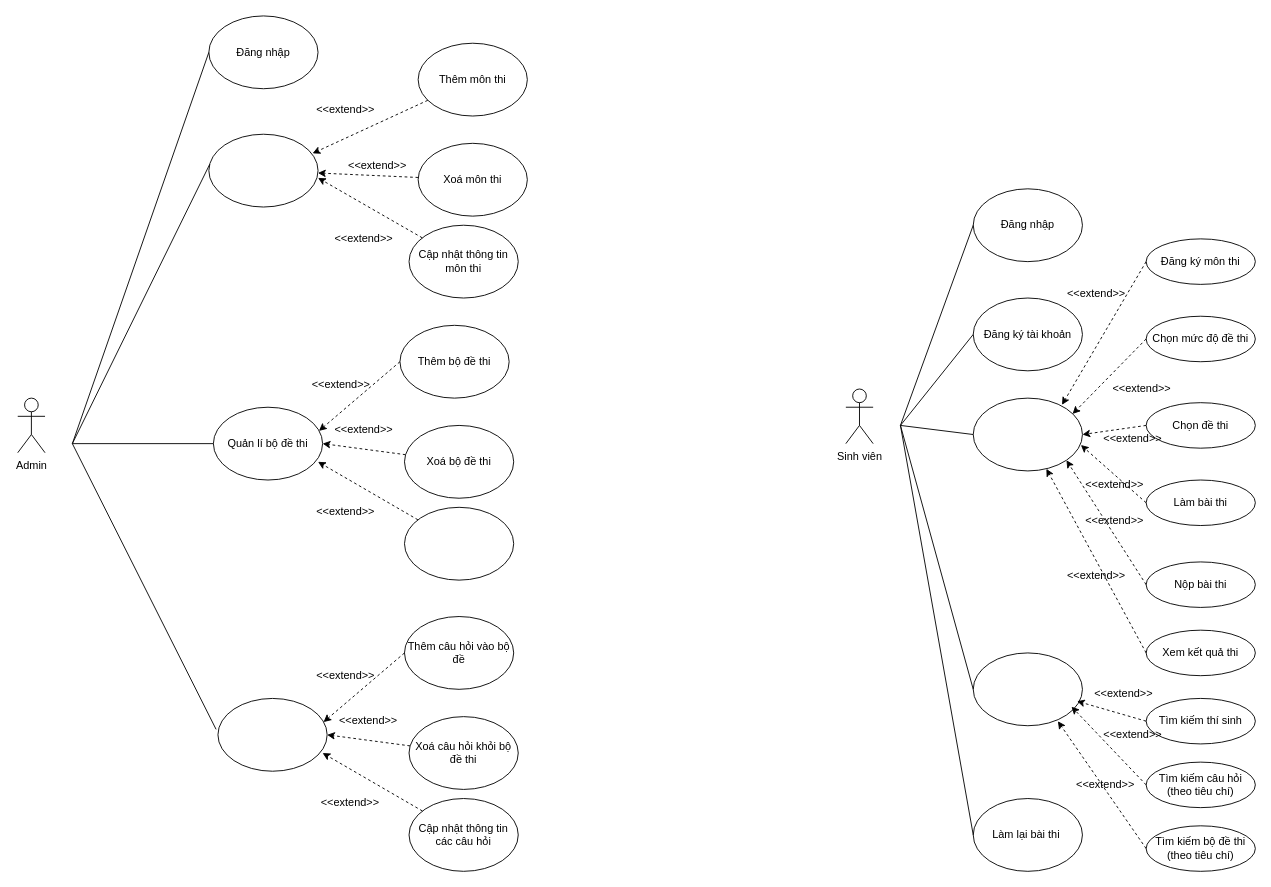
This 1271x887 diagram has some shape labels left out. Here are the shapes that lost their labels. From the top down, the box of each, then its label:
(208, 133, 318, 207): Quản lí môn thi
(972, 397, 1082, 471): Thi trắc nghiệm
(404, 506, 514, 580): Cập nhật thông tin bộ đề thi
(972, 652, 1082, 726): Tìm kiếm
(217, 698, 327, 771): Quản lí câu hỏi
